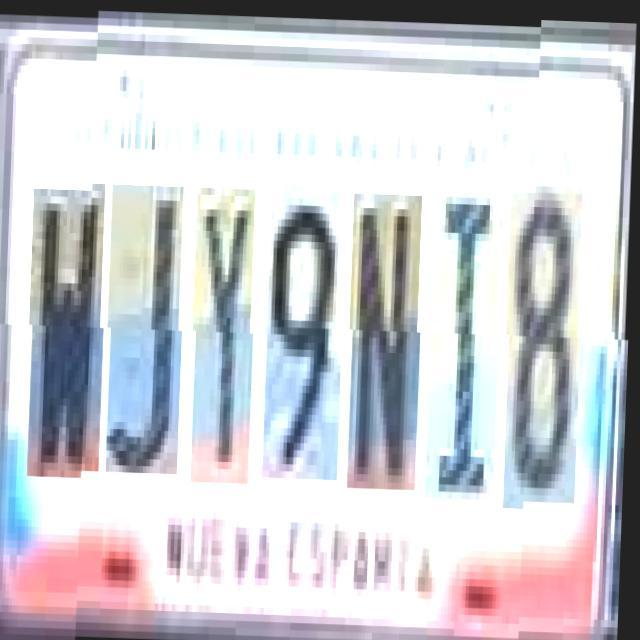8: (507, 188, 588, 507)
9: (265, 180, 349, 478)
I: (428, 186, 506, 497)
J: (109, 183, 189, 473)
N: (350, 190, 428, 487)
W: (30, 181, 110, 471)
Y: (193, 185, 260, 482)
